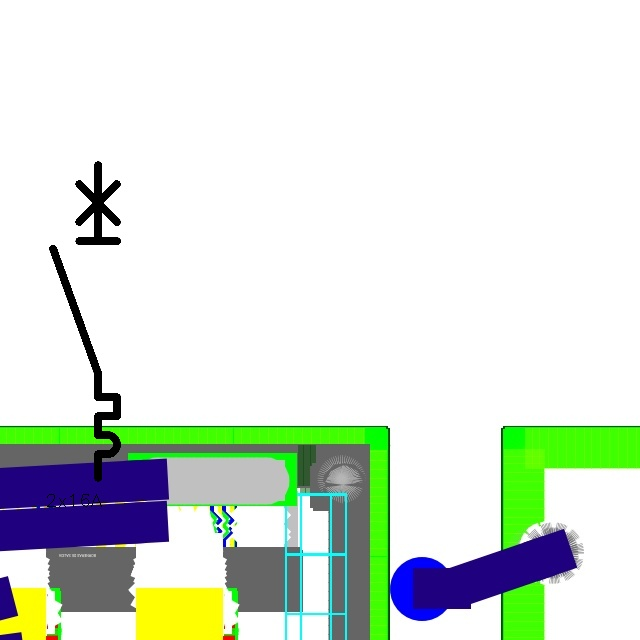interruptor_termomagnetico: (45, 157, 125, 486)
